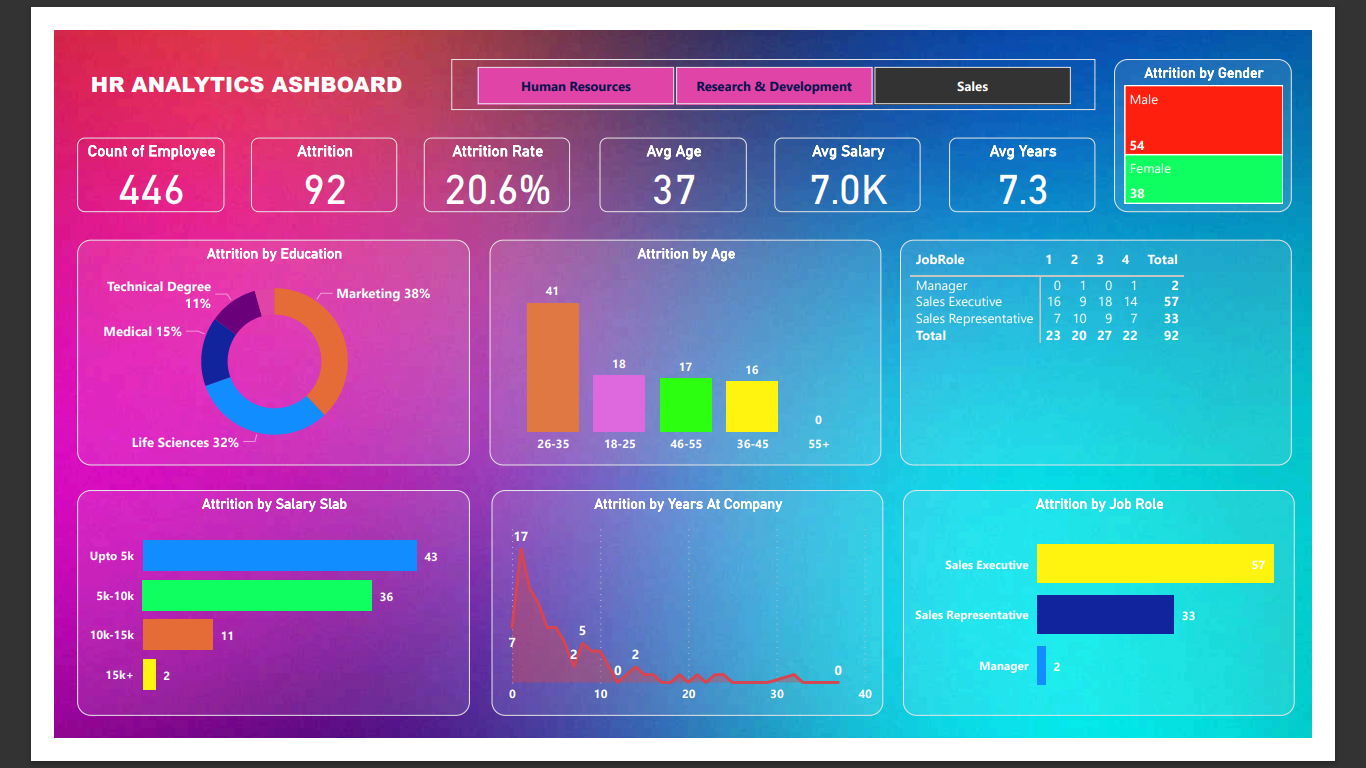

The dashboard page shown, as its layout file describes it:
{"tool":"powerbi","page":{"name":"Page 1","canvas":[1280,720],"ordinal":0},"visuals":[{"type":"card","title":"Attrition","fields":{"Values":["Sum(HR_Analytics.AttritionCount)"]},"box":[199.6,109,149.3,75.5],"z":0},{"type":"card","title":"Count of Employee","fields":{"Values":["CountNonNull(HR_Analytics.EmpID)"]},"box":[23.5,109,149.3,75.5],"z":1000},{"type":"card","title":"Attrition Rate","fields":{"Values":["HR_Analytics.AttritionRate"]},"box":[375.8,109,149.3,75.5],"z":2000},{"type":"card","title":"Avg Age","fields":{"Values":["Avg(HR_Analytics.Age)"]},"box":[555.3,109,149.3,75.5],"z":3000},{"type":"card","title":"Avg Salary","fields":{"Values":["Avg(HR_Analytics.MonthlyIncome)"]},"box":[733.1,109,149.3,75.5],"z":4000},{"type":"card","title":"Avg Years","fields":{"Values":["Avg(HR_Analytics.YearsAtCompany)"]},"box":[910.9,109,149.3,75.5],"z":5000},{"type":"donutChart","title":"Attrition by Education","fields":{"Category":["HR_Analytics.EducationField"],"Y":["Sum(HR_Analytics.AttritionCount)"]},"box":[23.5,213.1,399.3,229.8],"z":6000},{"type":"columnChart","title":"Attrition by Age","fields":{"Category":["HR_Analytics.AgeGroup"],"Y":["Sum(HR_Analytics.AttritionCount)"]},"box":[442.9,213.1,399.3,229.8],"z":7000},{"type":"pivotTable","fields":{"Rows":["HR_Analytics.JobRole"],"Columns":["HR_Analytics.JobSatisfaction"],"Values":["Sum(HR_Analytics.AttritionCount)"]},"box":[860.6,213.1,399.3,229.8],"z":8000},{"type":"barChart","title":"Attrition by Salary Slab","fields":{"Category":["HR_Analytics.SalarySlab"],"Y":["Sum(HR_Analytics.AttritionCount)"]},"box":[23.5,468,399.3,229.8],"z":9000},{"type":"barChart","title":"Attrition by Job Role","fields":{"Category":["HR_Analytics.JobRole"],"Y":["Sum(HR_Analytics.AttritionCount)"]},"box":[864,468,399.3,229.8],"z":10000},{"type":"areaChart","title":"Attrition by Years At Company","fields":{"Category":["HR_Analytics.YearsAtCompany"],"Y":["Sum(HR_Analytics.AttritionCount)"]},"box":[444.6,468,399.3,229.8],"z":11000},{"type":"treemap","title":"Attrition by Gender","fields":{"Group":["HR_Analytics.Gender"],"Values":["Sum(HR_Analytics.AttritionCount)"]},"box":[1078.7,28.5,181.2,156],"z":12000},{"type":"slicer","fields":{"Values":["HR_Analytics.Department"]},"box":[404.3,28.5,655.9,52],"z":13000},{"type":"textbox","box":[31.9,35.2,354,45.3],"z":14000}]}

Visuals, with their boxes in screenshot pixels (x1, y1, x2, y2), scaled from the page's 1280x720 canvas onto the 1366x768 screenshot:
"Attrition" card: [left=213, top=116, right=372, bottom=197]
"Count of Employee" card: [left=25, top=116, right=184, bottom=197]
"Attrition Rate" card: [left=401, top=116, right=560, bottom=197]
"Avg Age" card: [left=593, top=116, right=752, bottom=197]
"Avg Salary" card: [left=782, top=116, right=942, bottom=197]
"Avg Years" card: [left=972, top=116, right=1131, bottom=197]
"Attrition by Education" donutChart: [left=25, top=227, right=451, bottom=472]
"Attrition by Age" columnChart: [left=473, top=227, right=899, bottom=472]
pivotTable - HR_Analytics.JobRole x HR_Analytics.JobSatisfaction: [left=918, top=227, right=1345, bottom=472]
"Attrition by Salary Slab" barChart: [left=25, top=499, right=451, bottom=744]
"Attrition by Job Role" barChart: [left=922, top=499, right=1348, bottom=744]
"Attrition by Years At Company" areaChart: [left=474, top=499, right=901, bottom=744]
"Attrition by Gender" treemap: [left=1151, top=30, right=1345, bottom=197]
slicer - HR_Analytics.Department: [left=431, top=30, right=1131, bottom=86]
textbox: [left=34, top=38, right=412, bottom=86]
